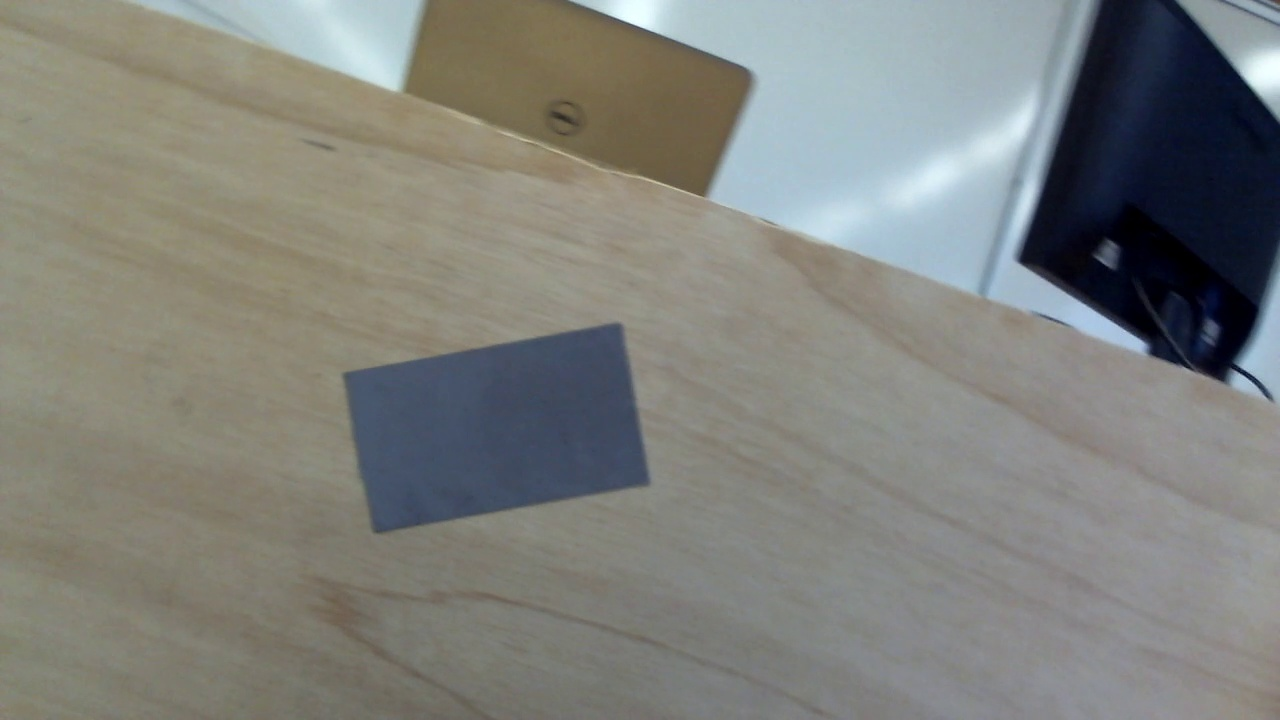Tape: (342, 321, 652, 534)
